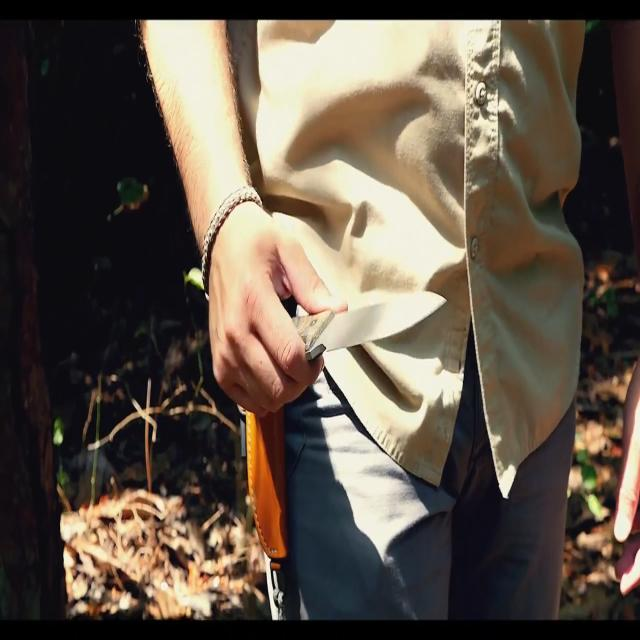knife: (301, 290, 449, 367)
